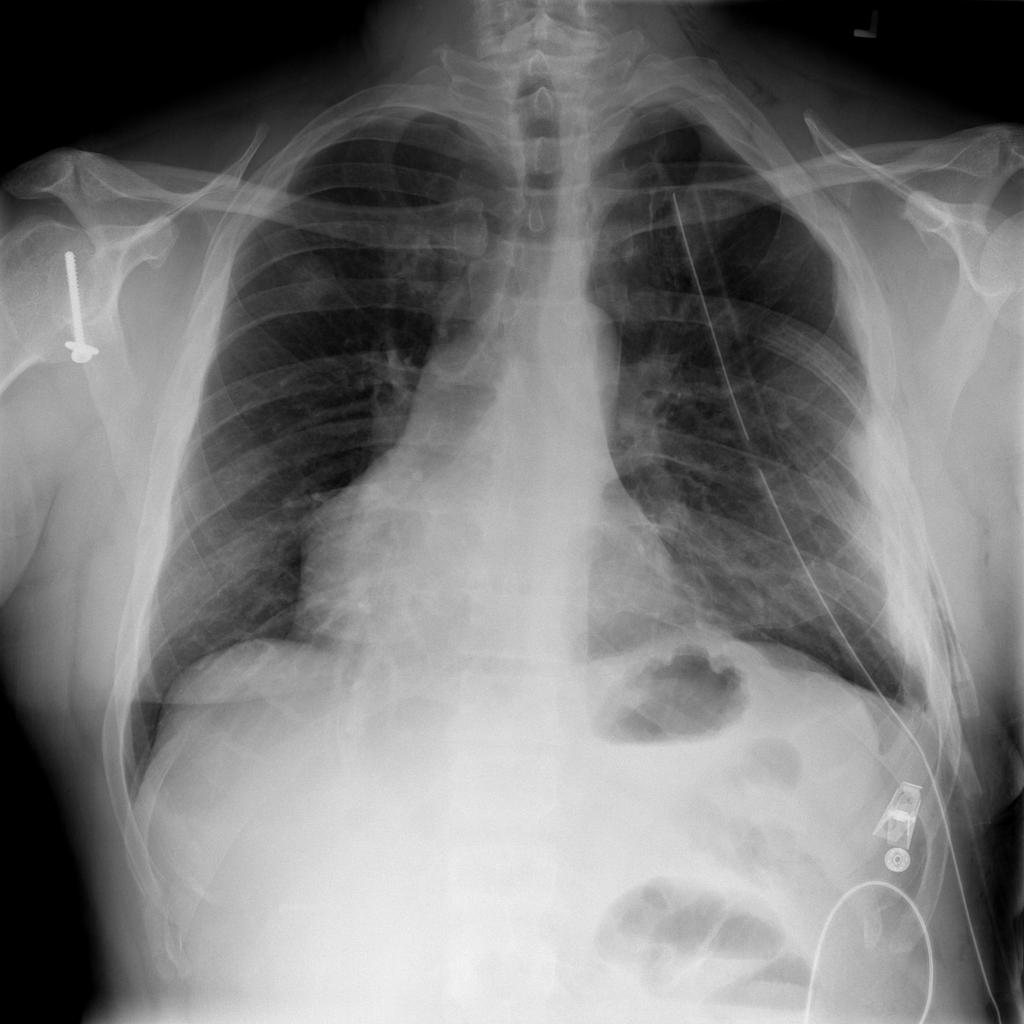nodule: (271, 242, 351, 324)
